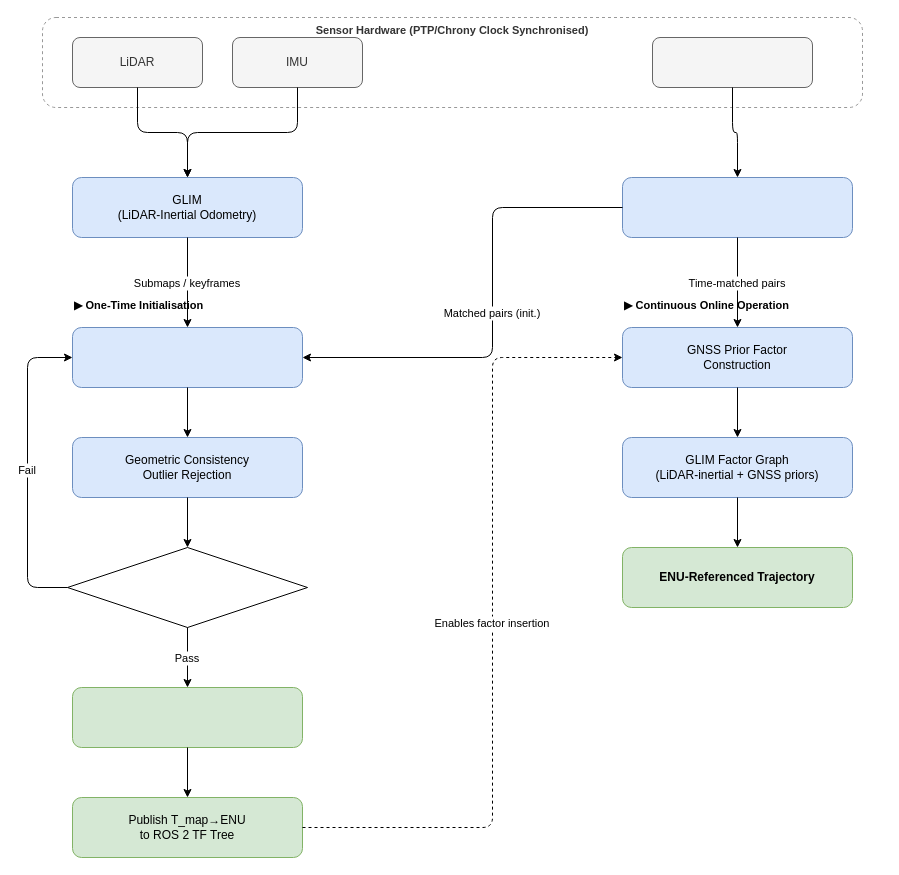
This 899x875 diagram has some shape labels left out. The shapes that lost their labels are listed below. From the top down, each one's centre as x and y in pixels, then its label:
the point at 732,62: GNSS Receiver
the point at 737,207: GNSS–Keyframe Time Matching
the point at 187,357: Accumulate GNSS–Keyframe Pairs
the point at 187,587: Sufficient Geometry?
the point at 187,717: Kabsch Alignment (RMSD Minimisation)
